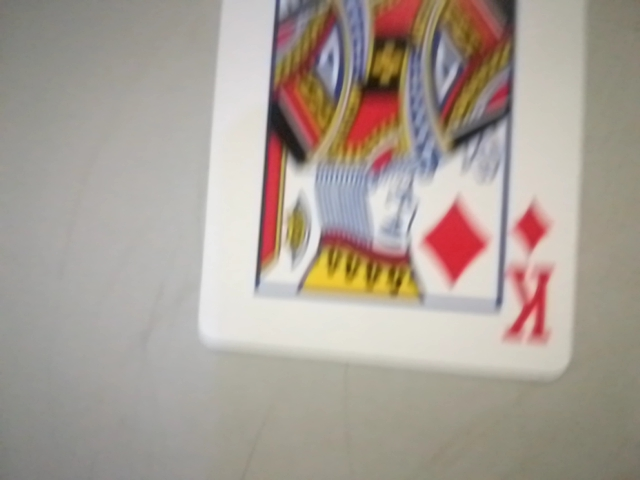fk k: (497, 189, 571, 358)
